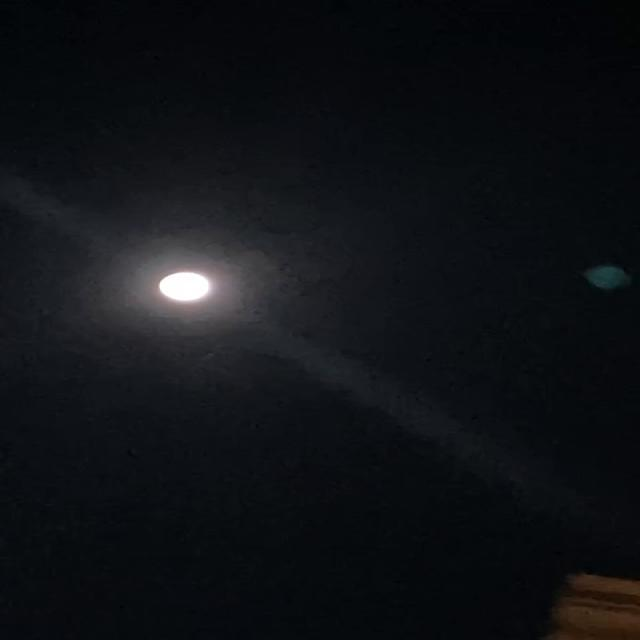moon: (135, 266, 226, 312)
